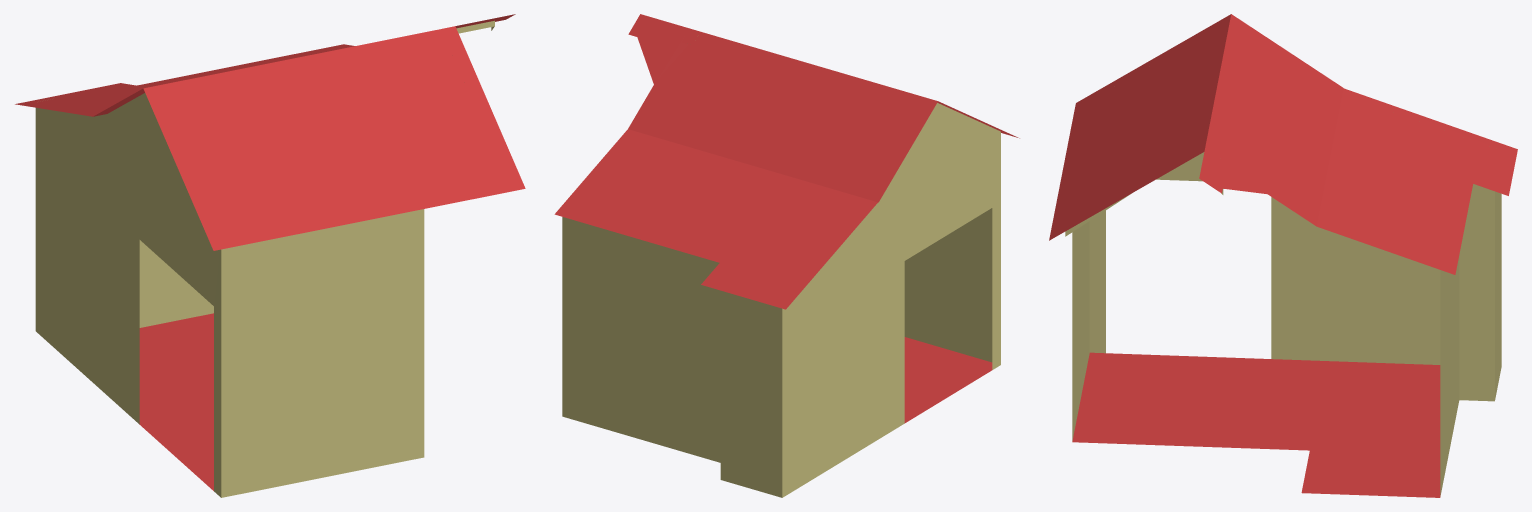
3 views of the same model, side by side, from view 1: azimuth 30°, elevation 25°; view 2: azimuth 150°, elevation 25°; view 3: azimuth 270°, elevation 25° (orthographic). The views are drawn at different scales.
Bounding box in the file's own units: 13.29 × 15.41 × 12.23.
